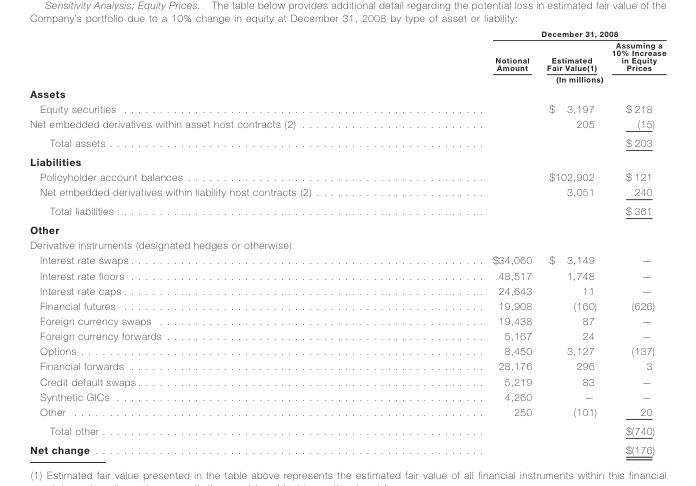table: (29, 28, 665, 455)
table column: (29, 28, 401, 455), (401, 28, 538, 455), (538, 28, 603, 455), (603, 28, 665, 455)
table column header: (29, 28, 665, 85)
table projected row header: (29, 219, 665, 237), (29, 151, 665, 168), (29, 85, 665, 100), (29, 237, 665, 252)
table row: (29, 38, 665, 73), (29, 132, 665, 151), (29, 420, 665, 439), (29, 201, 665, 219), (29, 219, 665, 237), (29, 115, 665, 132), (29, 151, 665, 168), (29, 184, 665, 201), (29, 403, 665, 420), (29, 168, 665, 184), (29, 312, 665, 328), (29, 439, 665, 455), (29, 85, 665, 100), (29, 100, 665, 115), (29, 237, 665, 252), (29, 252, 665, 267), (29, 267, 665, 282), (29, 282, 665, 297), (29, 297, 665, 312), (29, 328, 665, 343), (29, 343, 665, 358), (29, 358, 665, 373), (29, 373, 665, 388), (29, 388, 665, 403), (29, 73, 665, 85), (29, 28, 665, 38)
table spanning cell: (401, 73, 665, 85), (401, 28, 665, 38)
